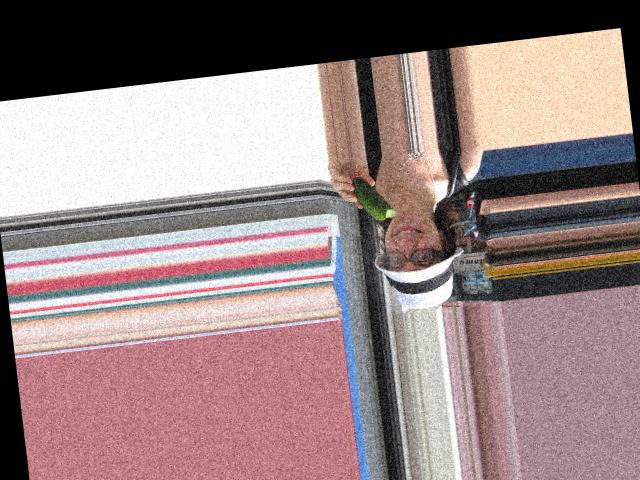cucumber: (350, 173, 395, 223)
